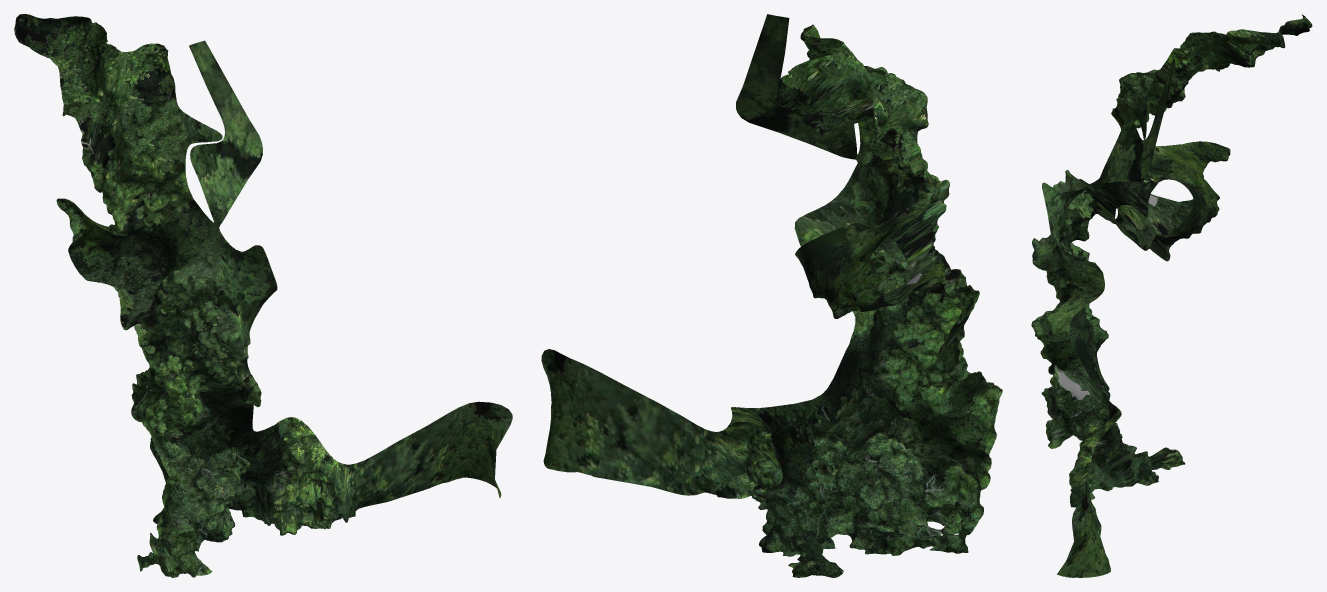
Rendered from Tile_+024_+014.fbx.
3 renders of one model, left to right at view 1: azimuth 30°, elevation 25°; view 2: azimuth 150°, elevation 25°; view 3: azimuth 270°, elevation 25°, orthographic. The views are drawn at different scales.
Visible parts, largest first — view 1: DefaultName; view 2: DefaultName; view 3: DefaultName.
Boxes of the visible parts, x1,y1,x2,y2 form: DefaultName: (14,14,512,577); DefaultName: (541,14,1002,577); DefaultName: (1031,14,1312,577).
Size of the model in its own units: 18.61 by 22.54 by 13.96.
